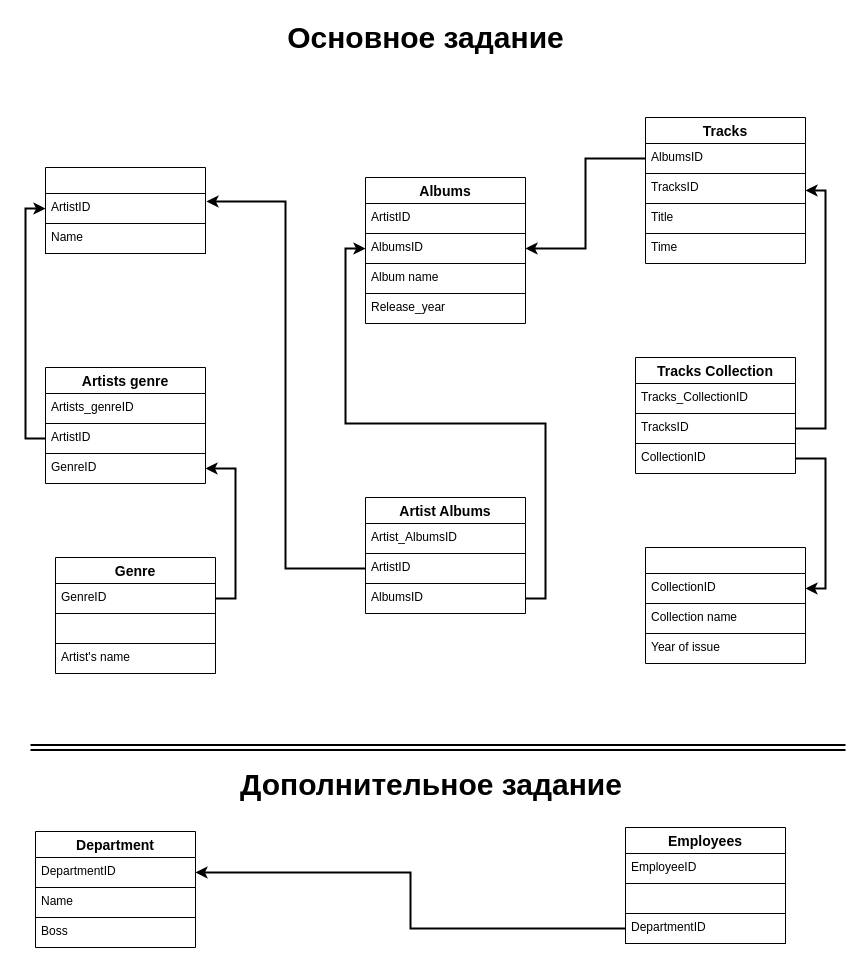
This 863x967 diagram has some shape labels left out. The box of each missing label's shape, as (x1, y1, x2, y2) in pixels:
Artists: (44, 166, 206, 254)
Collection's: (644, 546, 806, 664)
Genre name: (54, 612, 216, 644)
Name employee: (624, 882, 786, 914)
